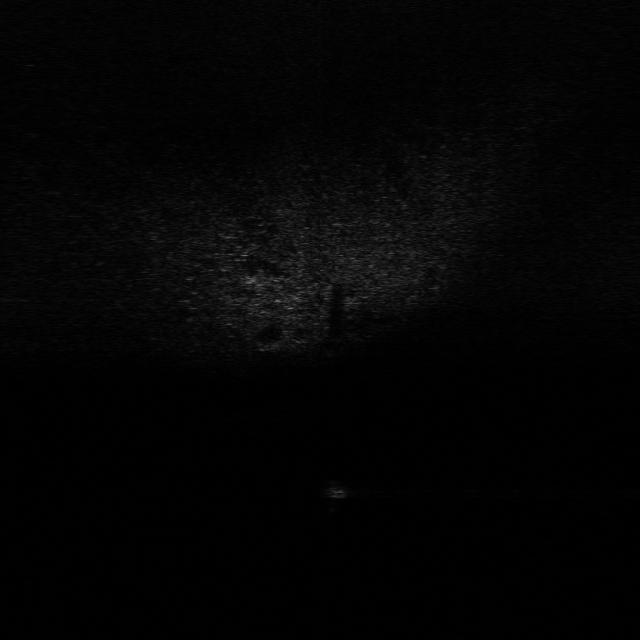cylinder: (318, 477, 358, 503)
